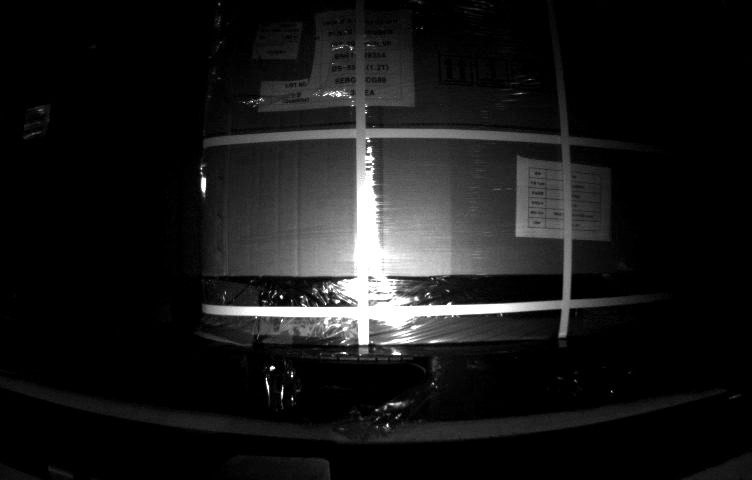True Barcode: (258, 21, 299, 59)
